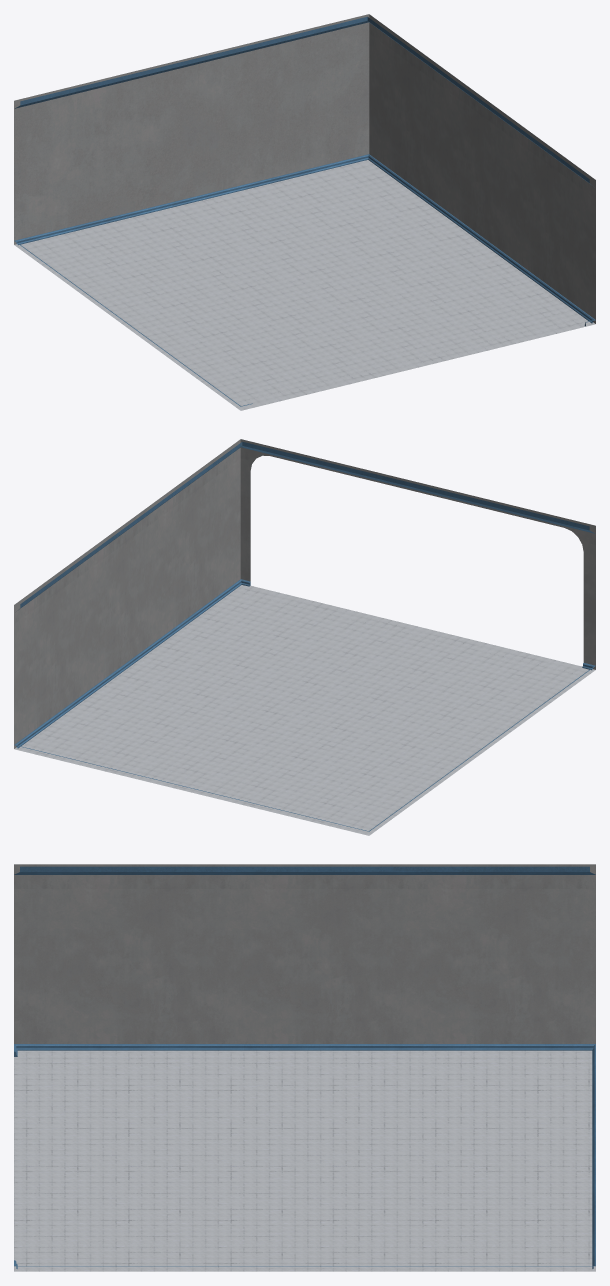
Rendered from PZ_cont1.glb.
3 views of the same model, one above another, from view 1: azimuth 30°, elevation 25°; view 2: azimuth 150°, elevation 25°; view 3: azimuth 270°, elevation 25° (orthographic). The views are drawn at different scales.
Parts seen in each view (by area): view 1: PZ_HallwayI; view 2: PZ_HallwayI; view 3: PZ_HallwayI.
Part boxes in pixels (x1,y1,x2,y2): PZ_HallwayI: [14, 14, 595, 410]; PZ_HallwayI: [14, 439, 595, 835]; PZ_HallwayI: [14, 864, 595, 1271].
Size of the model in its own units: 18.24 by 7.08 by 20.18.
3 materials, 3 textured.
